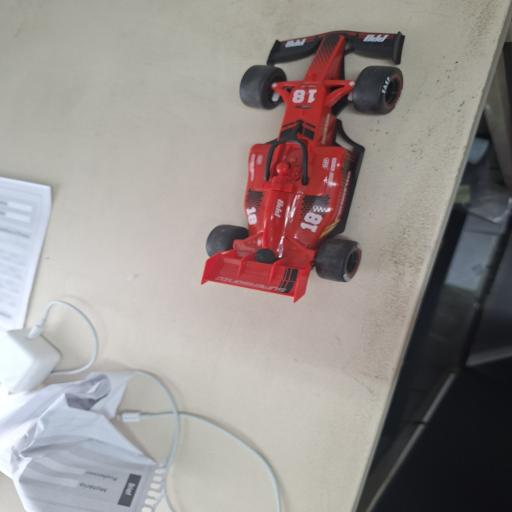carro: (203, 31, 404, 300)
